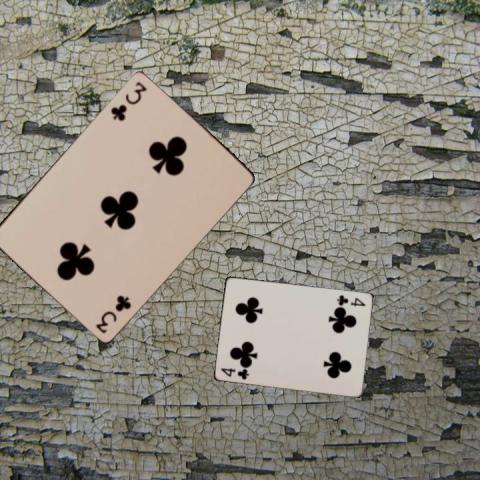3c: (107, 78, 148, 123), (92, 292, 133, 334)
4c: (218, 364, 251, 380), (334, 292, 367, 307)
